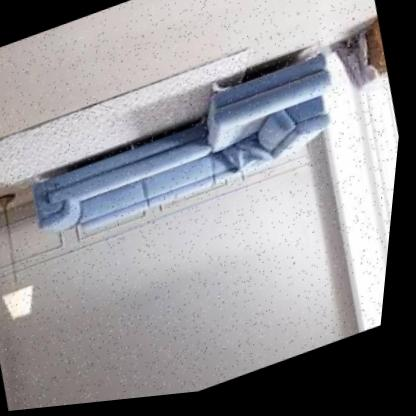Sofa: (0, 23, 368, 271)
